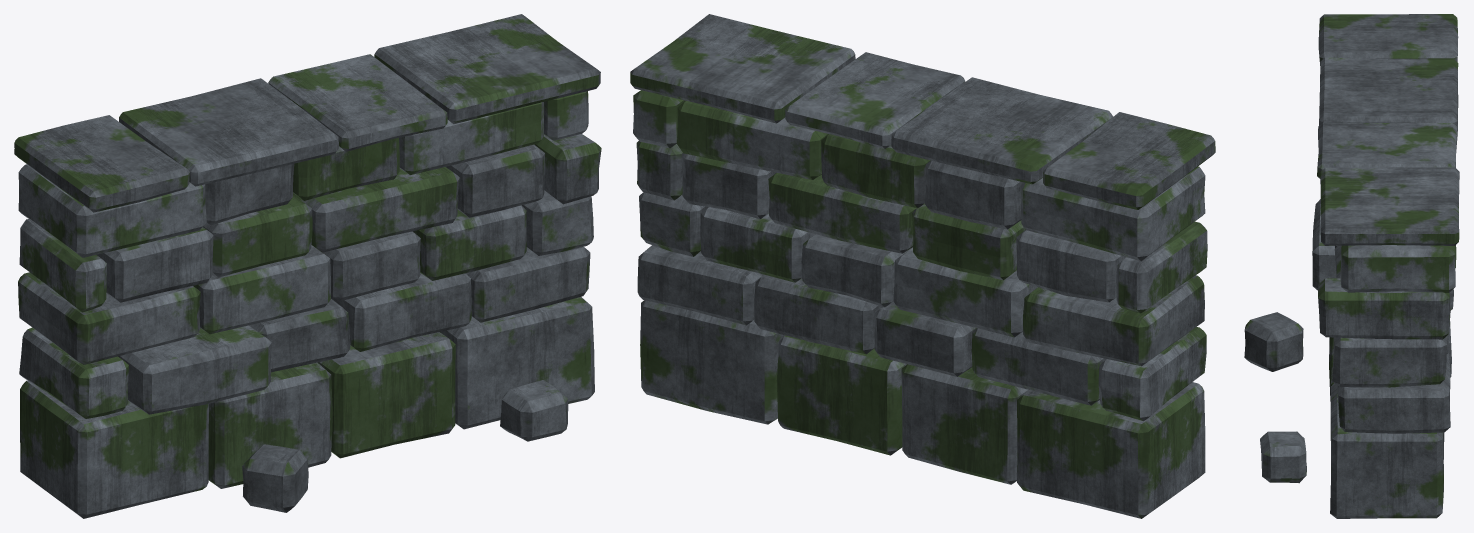
The model's file is Bell_Retain_Wall_Short.glb.
The picture shows the model from 3 angles, left to right: view 1: azimuth 30°, elevation 25°; view 2: azimuth 150°, elevation 25°; view 3: azimuth 270°, elevation 25°; orthographic projection. The views are drawn at different scales.
Parts seen in each view (by area): view 1: Bell_Retain_Wall_Short__Stone; view 2: Bell_Retain_Wall_Short__Stone; view 3: Bell_Retain_Wall_Short__Stone.
Boxes of the visible parts, x1,y1,x2,y2 form: Bell_Retain_Wall_Short__Stone: (14, 14, 601, 518); Bell_Retain_Wall_Short__Stone: (630, 14, 1215, 518); Bell_Retain_Wall_Short__Stone: (1244, 14, 1459, 518).
Size of the model in its own units: 12.02 by 7.52 by 4.99.
Materials: 1 (1 with a texture image).
